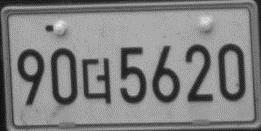0: (217, 43, 247, 102), (49, 47, 78, 106)
2: (183, 42, 214, 105)
5: (117, 46, 147, 105)
6: (149, 43, 180, 104)
9: (16, 48, 45, 107)
더: (80, 56, 113, 107)
